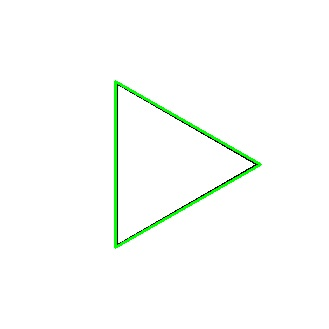line_segment: (114, 81, 261, 248)
